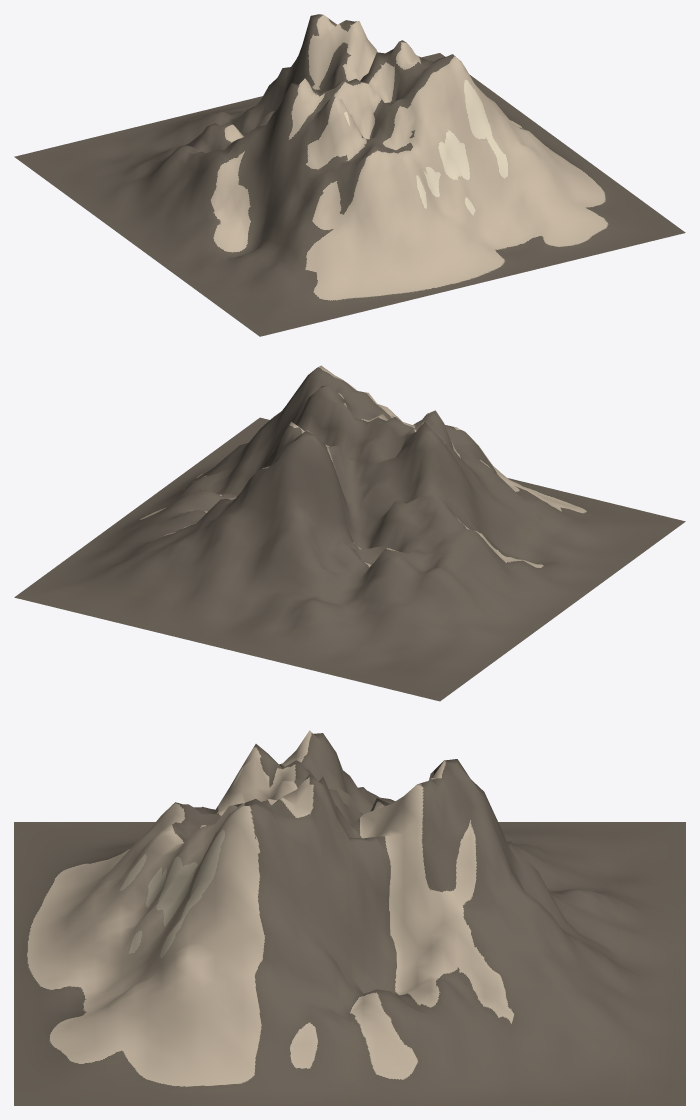
3 renders of one model, top to bottom at view 1: azimuth 30°, elevation 25°; view 2: azimuth 150°, elevation 25°; view 3: azimuth 270°, elevation 25°, orthographic. The views are drawn at different scales.
Visible parts, largest first — view 1: Landscape.1; view 2: Landscape.1; view 3: Landscape.1.
Part boxes in pixels (x1,y1,x2,y2): Landscape.1: (14,14,685,336); Landscape.1: (14,365,685,701); Landscape.1: (14,730,685,1105).
Size of the model in its own units: 800 by 279 by 800.
Materials: 1 (1 with a texture image).
